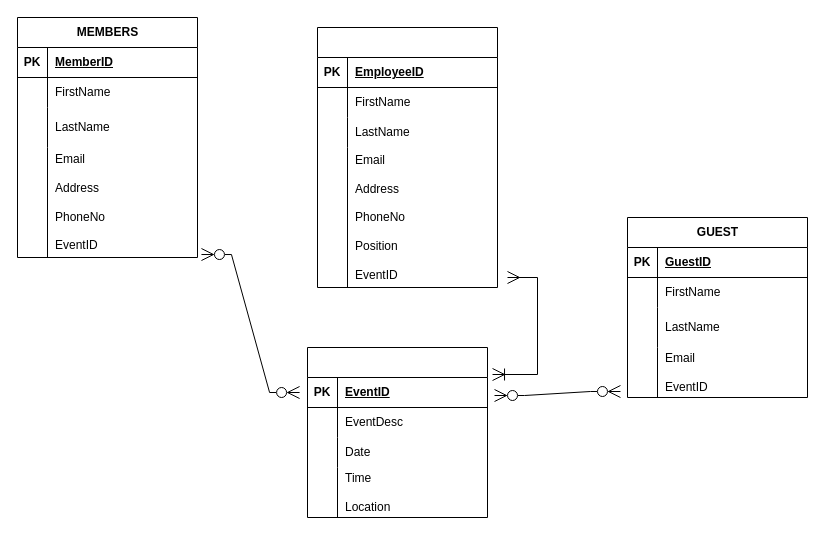
The diagram is 825 pixels wide and 535 high, and some of its shapes have lost their labels. Each missing label, with the box of its shape:
EVENTS: (306, 346, 488, 518)
STAFF: (316, 26, 498, 288)
